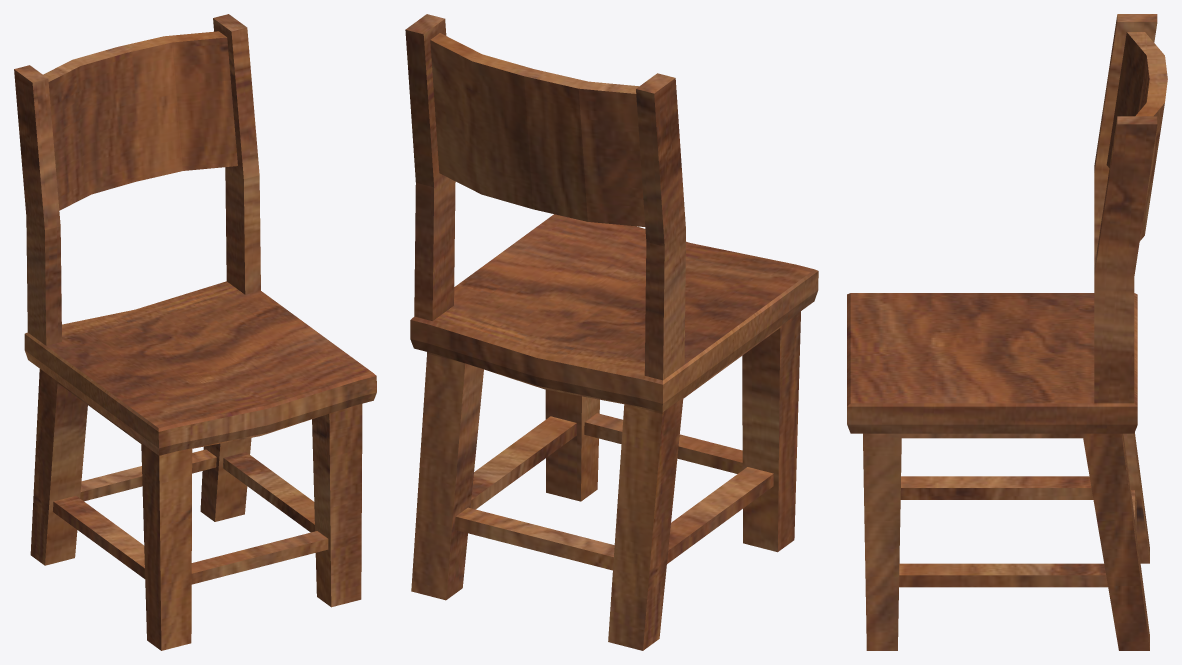
Rendered from chair.gltf.
The picture shows the model from 3 angles, left to right: view 1: azimuth 30°, elevation 25°; view 2: azimuth 150°, elevation 25°; view 3: azimuth 270°, elevation 25°; orthographic projection. The views are drawn at different scales.
Parts seen in each view (by area): view 1: chair; view 2: chair; view 3: chair.
Part boxes in pixels (x1=…): chair: x1=14, y1=14, x2=376, y2=650; chair: x1=405, y1=14, x2=818, y2=650; chair: x1=847, y1=14, x2=1167, y2=650.
Size of the model in its own units: 0.2406 by 0.5124 by 0.281.
2 materials, 1 textured.
